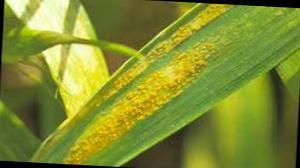Wheat: (158, 49, 217, 96), (65, 123, 120, 164), (121, 77, 156, 129)
